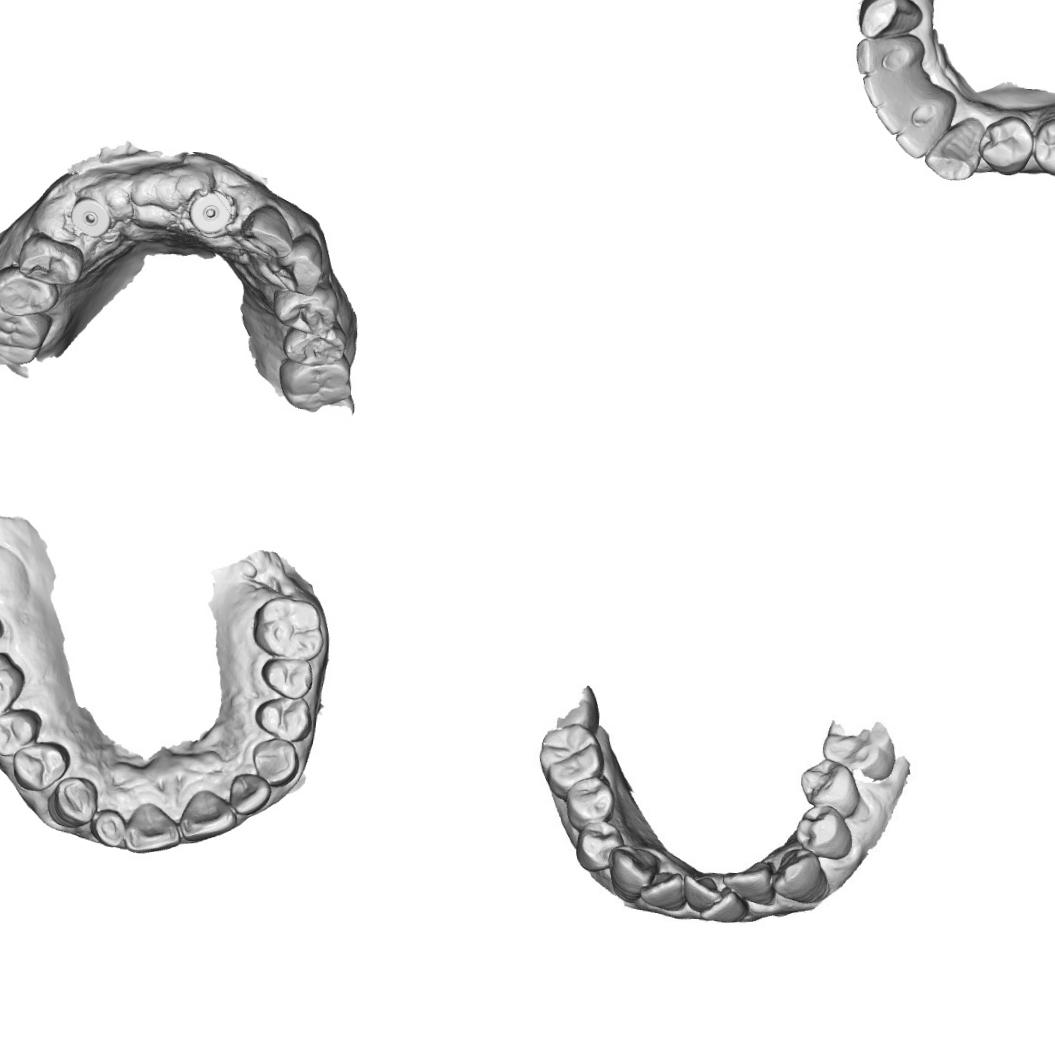canine: (920, 114, 985, 184), (269, 232, 331, 297), (602, 842, 657, 901), (47, 772, 102, 830), (854, 0, 921, 43), (249, 735, 302, 789), (774, 850, 828, 902)
implant: (185, 188, 233, 234), (66, 196, 114, 240)
incisor: (870, 84, 962, 136), (857, 64, 960, 108), (175, 780, 240, 846), (120, 796, 189, 856), (852, 30, 924, 80), (236, 201, 296, 260), (892, 114, 952, 162), (225, 771, 274, 817), (90, 801, 134, 849), (639, 873, 684, 916), (722, 866, 771, 902), (679, 876, 722, 914), (702, 893, 748, 926)
molar: (250, 593, 326, 664), (273, 355, 356, 416), (534, 720, 603, 793), (0, 298, 50, 368), (0, 646, 26, 728)
premolar: (14, 229, 85, 288), (266, 283, 339, 339), (975, 112, 1034, 176), (6, 738, 71, 796), (796, 756, 860, 812), (795, 802, 854, 860), (0, 263, 61, 318), (280, 322, 350, 368), (252, 692, 312, 743), (257, 650, 316, 700), (574, 818, 621, 872), (0, 705, 43, 760), (566, 778, 612, 824), (1029, 111, 1055, 177)
